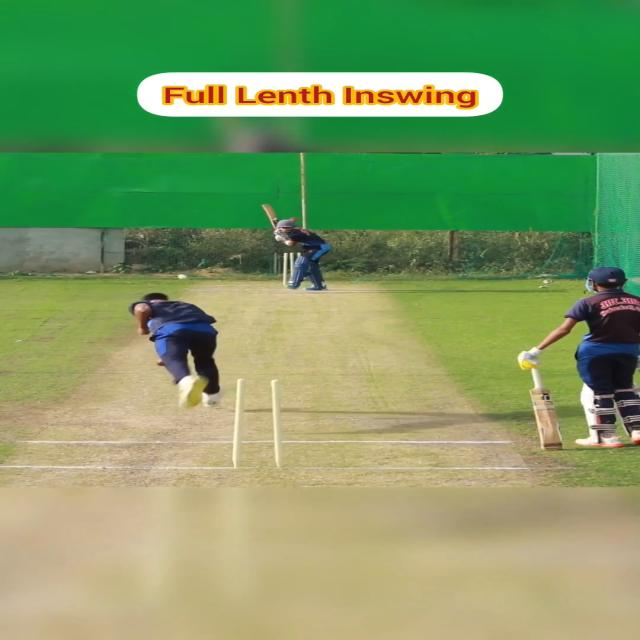ball: (177, 274, 188, 280)
stump: (230, 378, 286, 469), (282, 252, 303, 286)
